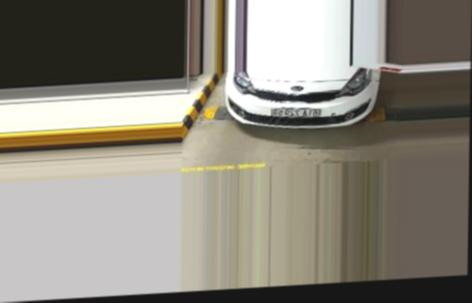License_Plate: (268, 105, 319, 121)
